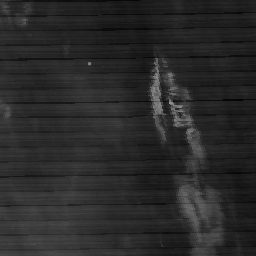Target: (86, 59, 92, 66)
